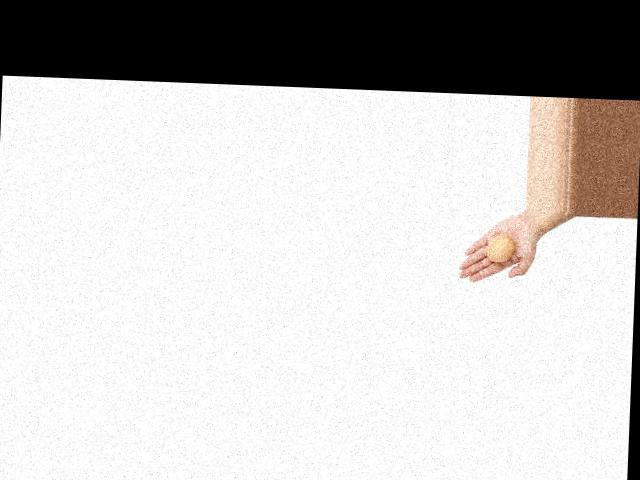egg: (487, 233, 516, 262)
